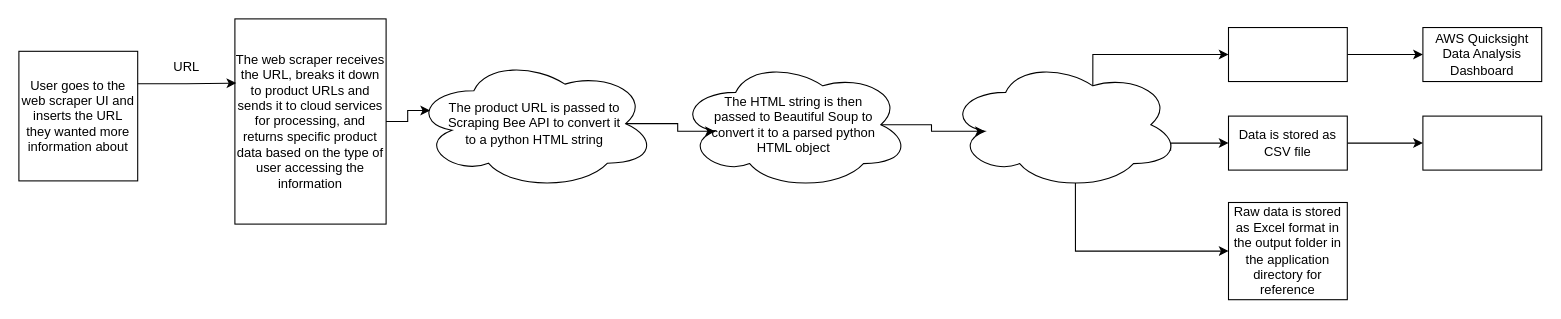
Some shapes in this 1561 by 319 pixel diagram are drawn without their labels. The shapes that lost their labels are listed below. From the top down, each one's box as (x1, y1, x2, y2) in pixels, then its label:
(1227, 26, 1347, 82): Data is stored in AWS S3 cloud storage
(947, 59, 1180, 190): Pandas module is then used to extract information from the object
(1422, 115, 1542, 170): Hey Marvin AI for Data Analysis
